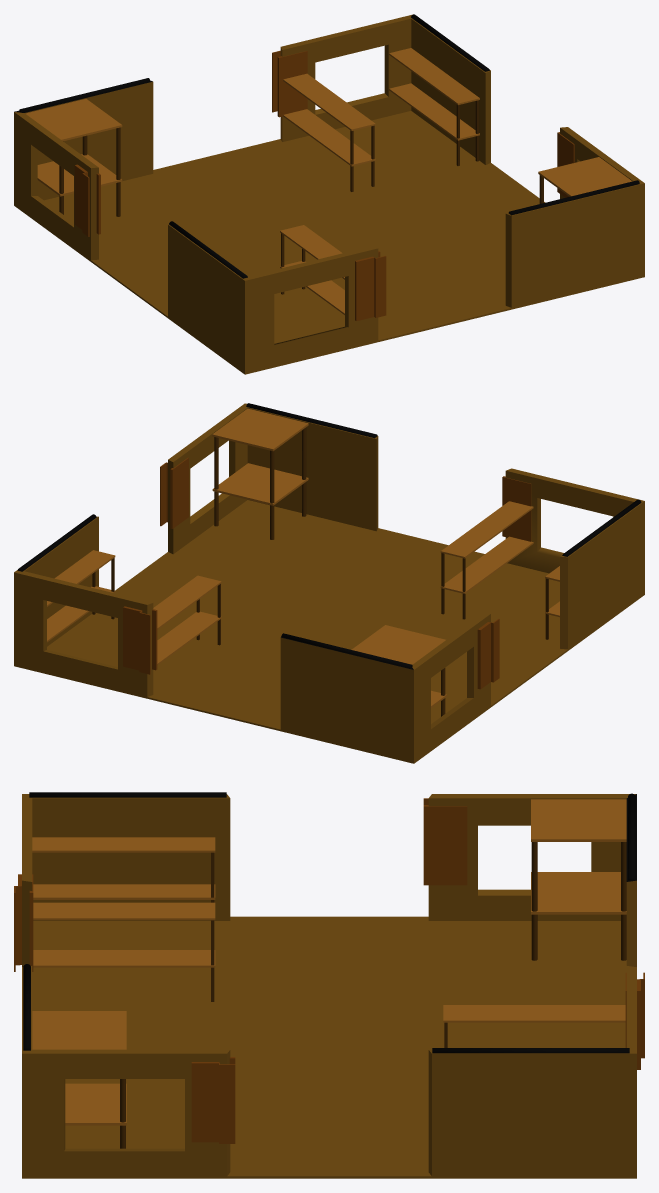
3 renders of one model, top to bottom at view 1: azimuth 30°, elevation 25°; view 2: azimuth 150°, elevation 25°; view 3: azimuth 270°, elevation 25°, orthographic. The views are drawn at different scales.
Visible parts, largest first — view 1: Base; view 2: Base; view 3: Base.
Part boxes in pixels (x1,y1,x2,y2): Base: (14, 14, 644, 374); Base: (14, 403, 644, 763); Base: (14, 792, 644, 1178).
Size of the model in its own units: 2800 by 629 by 2801.
